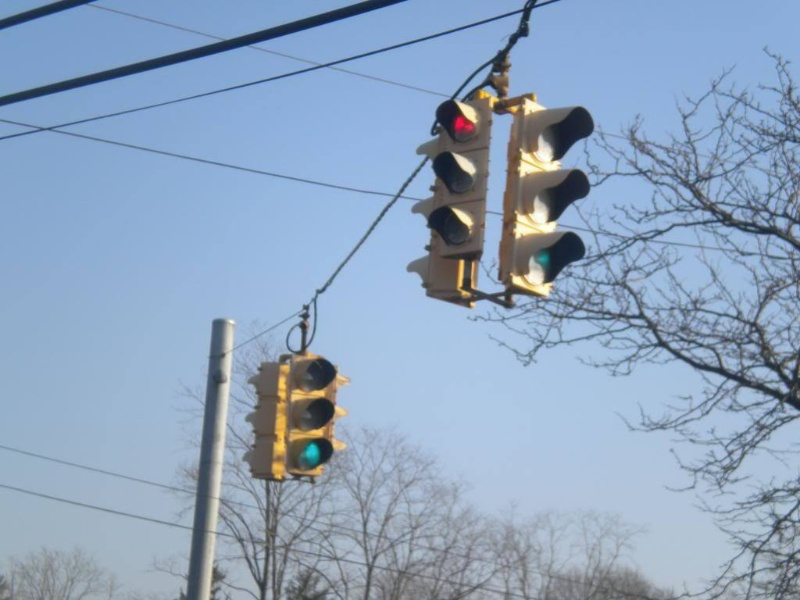green_light: (287, 435, 341, 483)
red_light: (435, 97, 487, 145)
